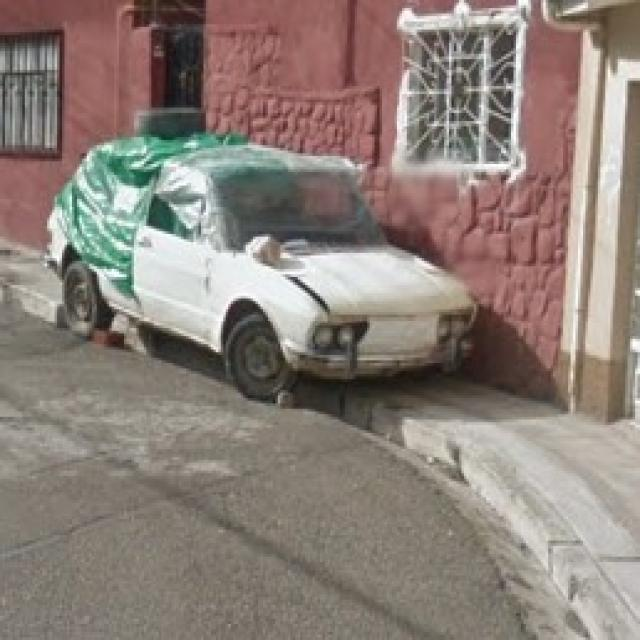Car: (63, 126, 476, 419)
